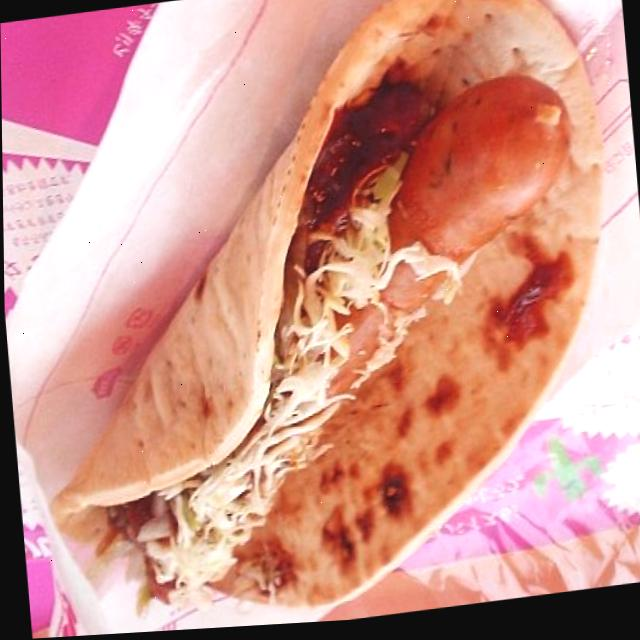面包点心: (12, 0, 628, 639)
